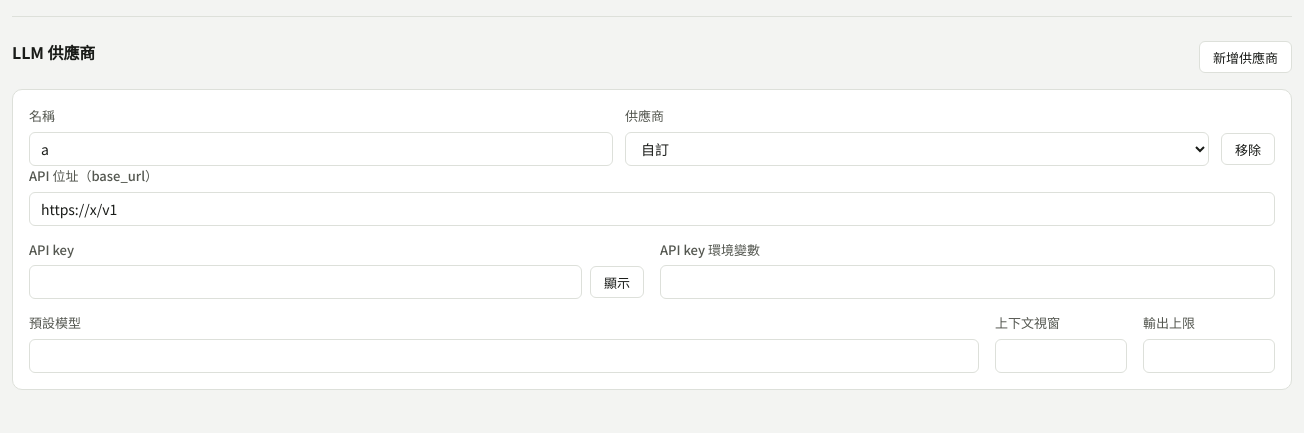
Test: non-numeric token ceiling blocks the draft with an error
Type "abc" into the field labelled "上下文視窗" at (1061, 356), box top-left (995, 339), bottom-right (1127, 373)
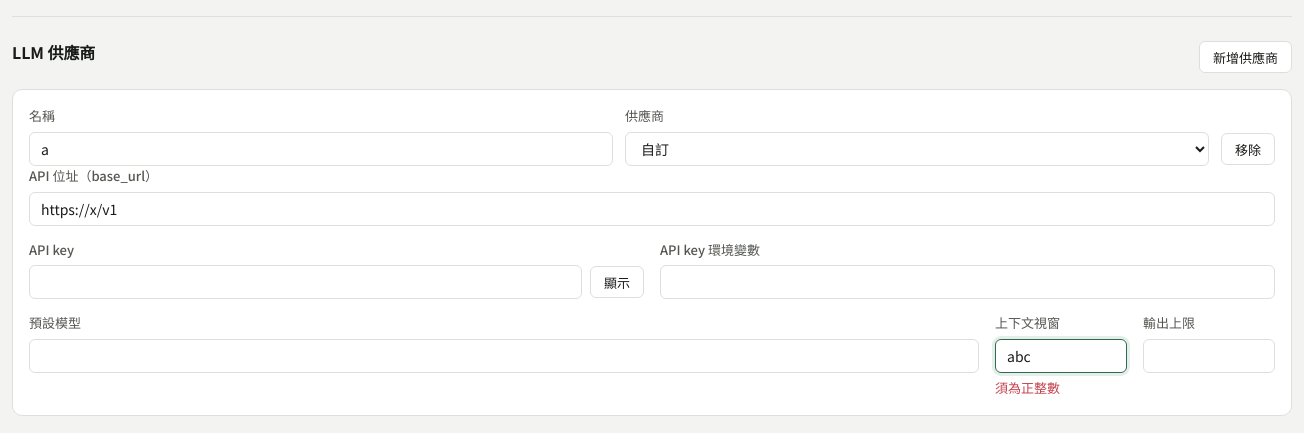
Expected: the text "須為正整數" is shown, top-left (995, 378), bottom-right (1060, 397)
